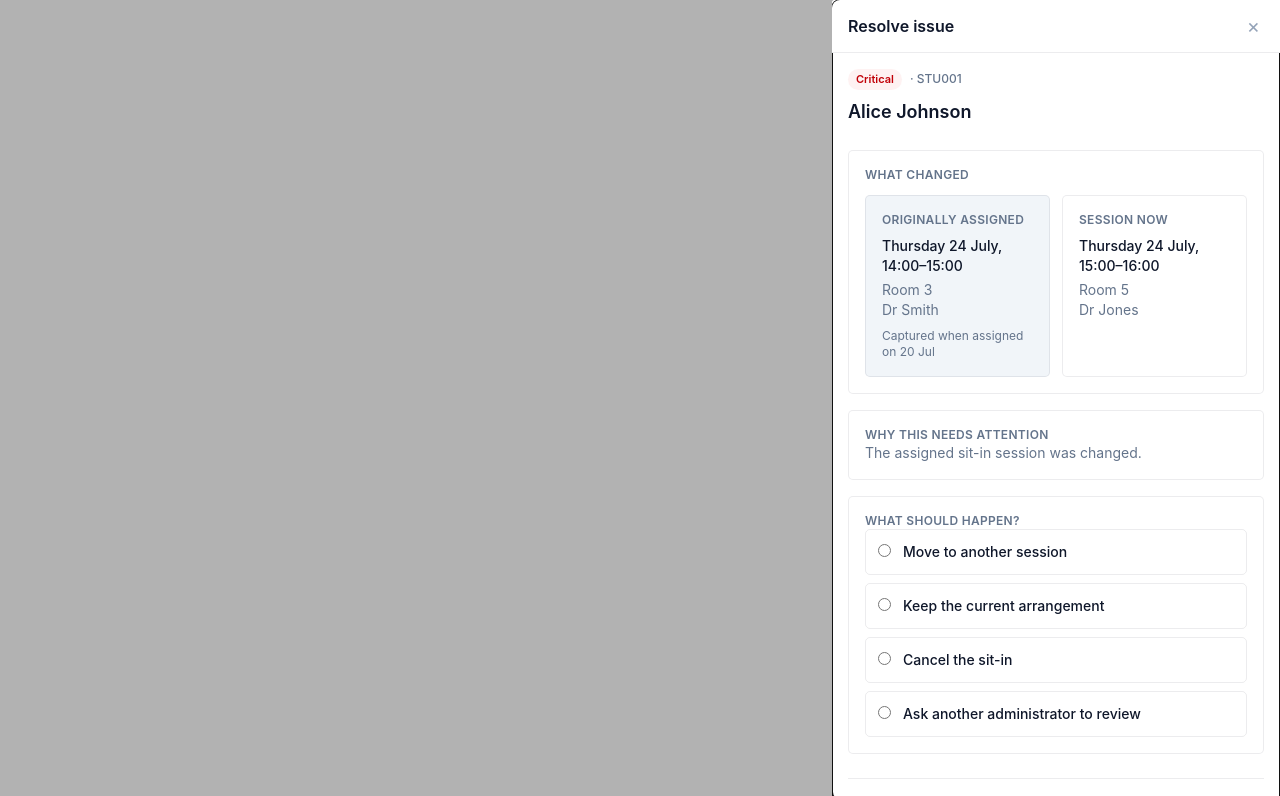
IssueResolutionPanel notification UX › UI-NOTIF-005: successful resolution shows the saved receipt
This screenshot has width=1280, height=796.
What coordinates should you click on to do the following:
click the text "Keep the current arrangement"
I would click on:
 (1004, 605)
Its box is [903,596,1104,614].
(page scrolled)
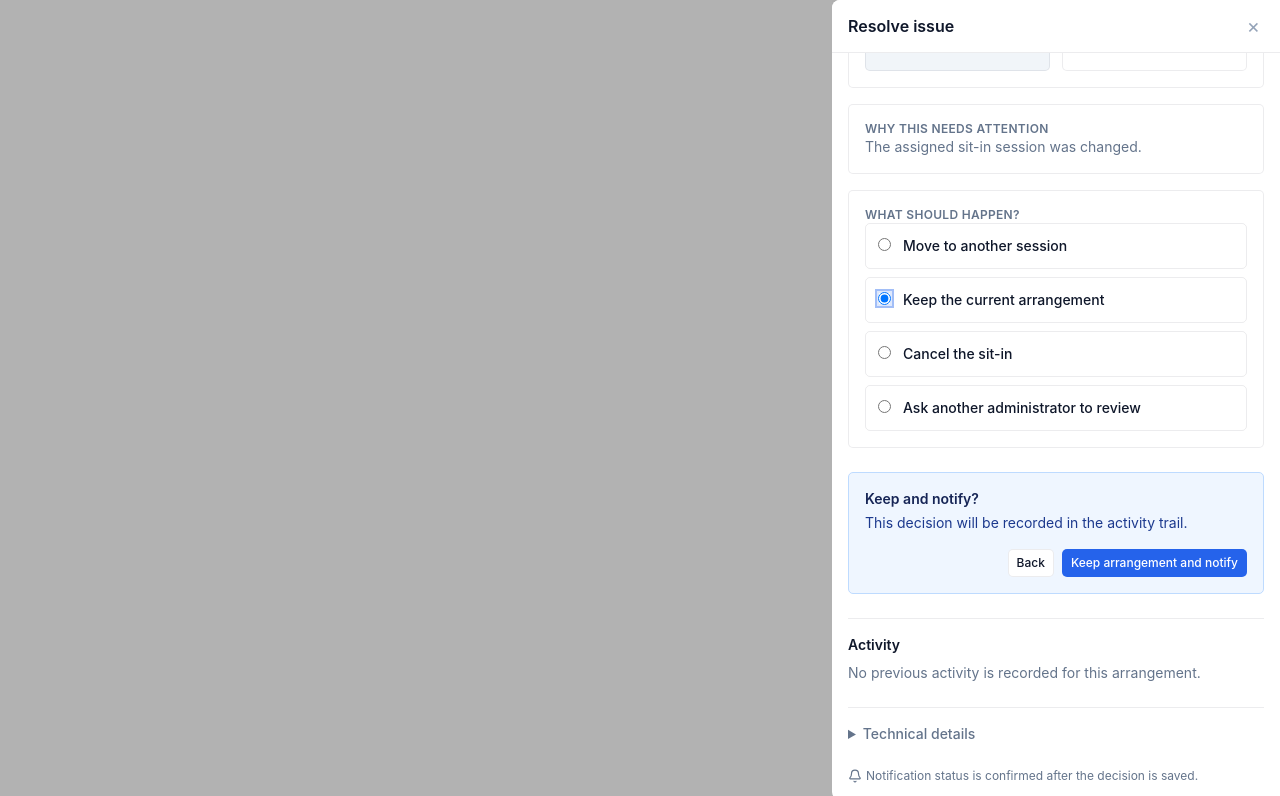
What coordinates should you click on to do the following:
click the button "Keep arrangement and notify"
I would click on:
 (1154, 562)
Its box is [1062,548,1247,576].
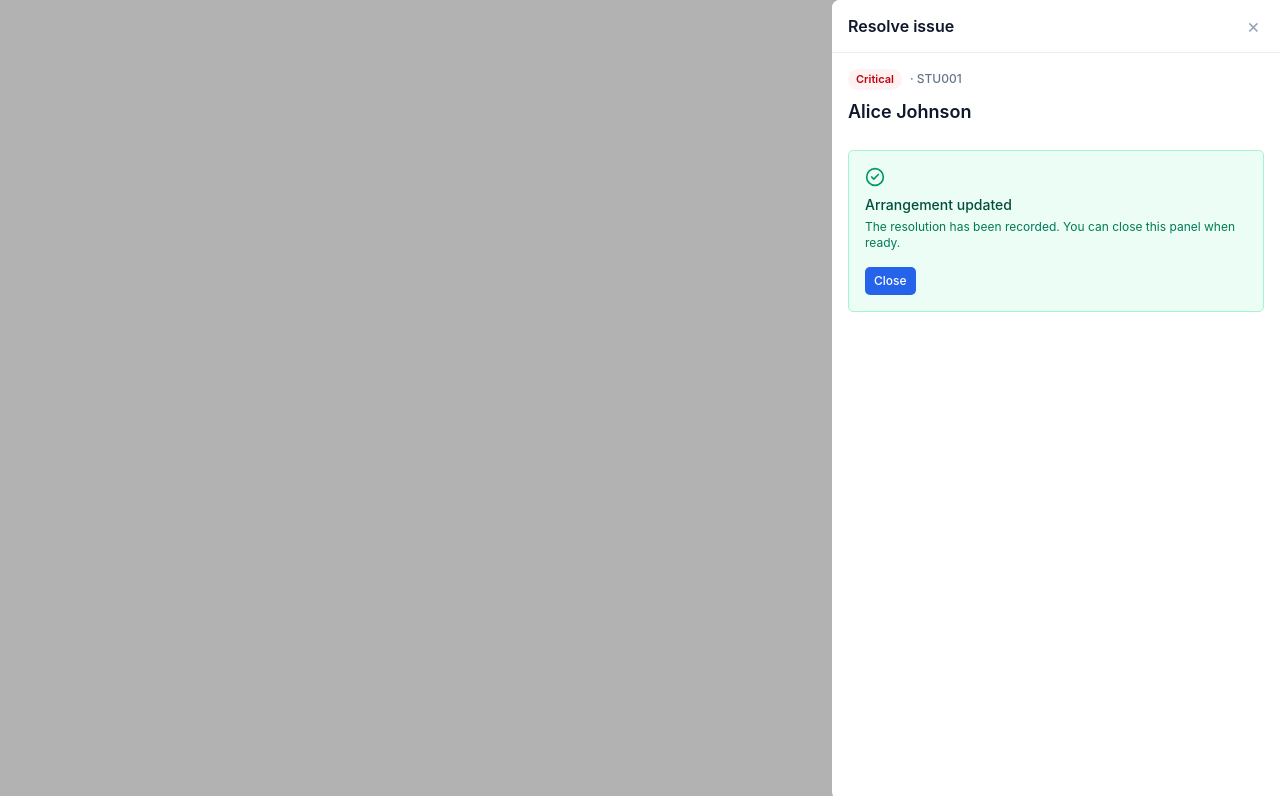
Result: the text "Arrangement updated" is shown at [865,196,1012,212]
